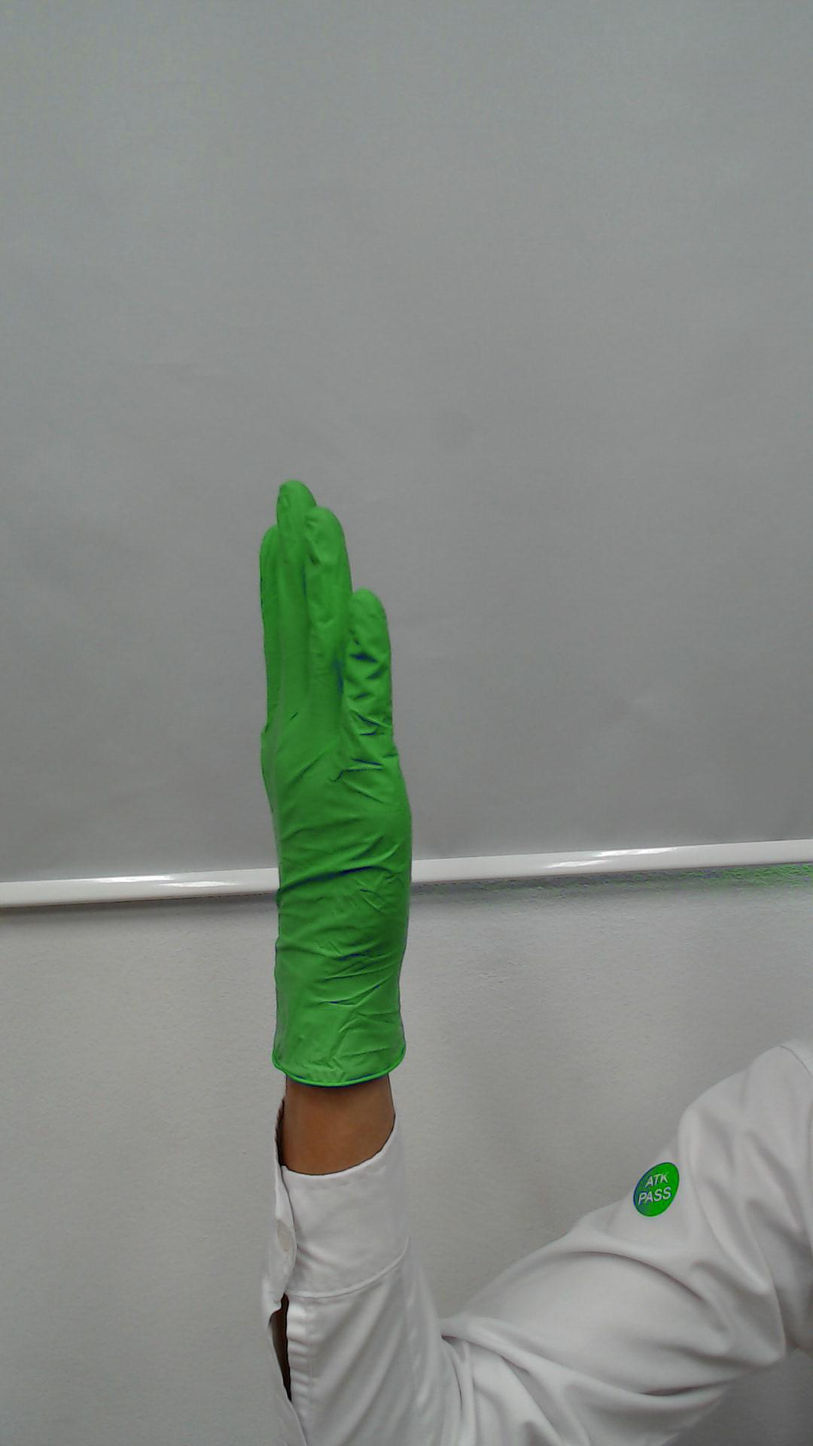gloves: (254, 463, 426, 960)
